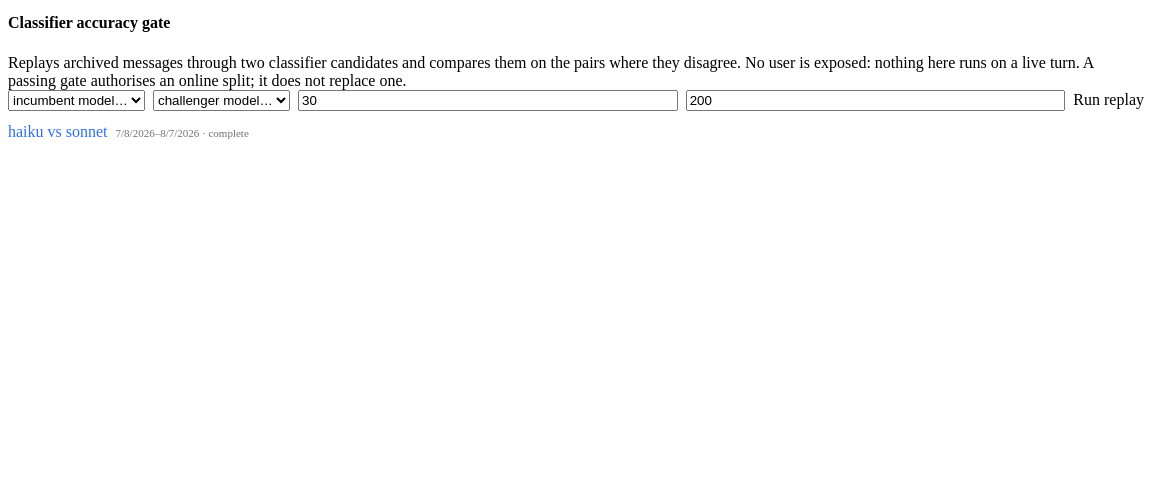
Test: ClassifierGatePanel › queues ONLY disagreements, and offers a "neither" ruling
Click the button "haiku vs sonnet". click: {"x": 58, "y": 132}
box: [8,122,108,140]
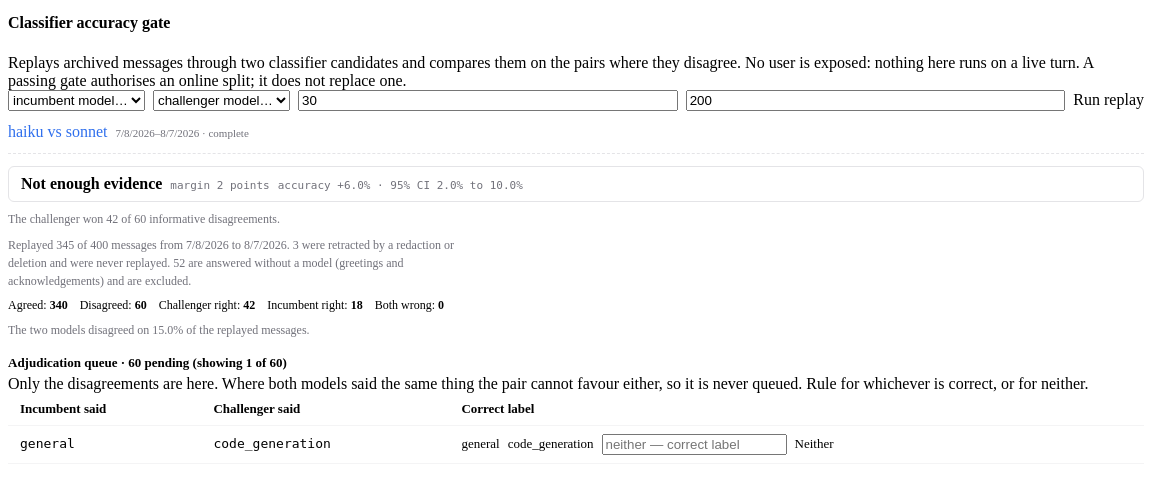
Now the text "Only the disagreements are here" is shown, box [8,374,1088,392]
Now the button "general" is shown, box [461,436,500,452]
Now the button "code_generation" is shown, box [508,436,594,452]
